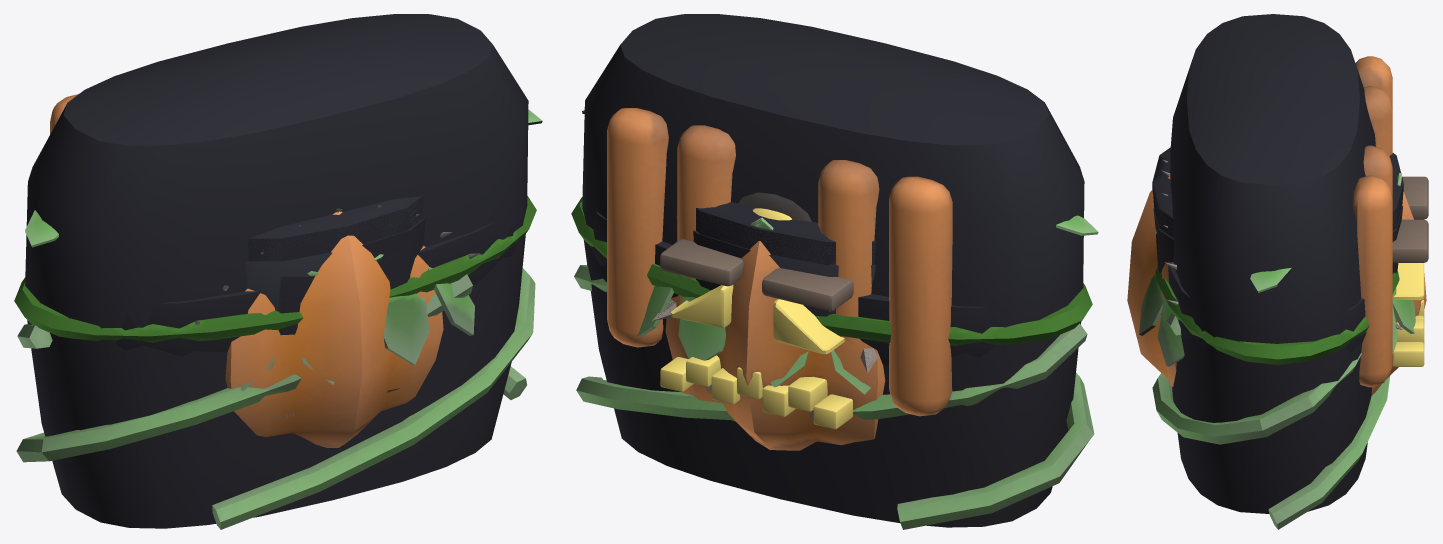
Rendered from Bramblebeast.fbx.
3 views of the same model, side by side, from view 1: azimuth 30°, elevation 25°; view 2: azimuth 150°, elevation 25°; view 3: azimuth 270°, elevation 25° (orthographic). The views are drawn at different scales.
Parts seen in each view (by area): view 1: UpperTorso.001, Head.001, LowerTorso.001, LeftUpperLeg.001, BrambleMane.001, RightUpperLeg.001, RightUpperArm.001, LeftUpperArm.001, BrambleCrown.001; view 2: UpperTorso.001, Head.001, LowerTorso.001, LeftUpperLeg.001, BrambleMane.001, RightUpperLeg.001, RightUpperArm.001, LeftUpperArm.001; view 3: UpperTorso.001, Head.001, LowerTorso.001, BrambleMane.001, LeftUpperLeg.001, RightUpperLeg.001, LeftUpperArm.001, BrambleCrown.001.
Part boxes in pixels (box(x1,y1,x2,y2)): UpperTorso.001: box(16, 14, 535, 529); Head.001: box(225, 211, 443, 447); LowerTorso.001: box(14, 196, 536, 356); LeftUpperLeg.001: box(248, 196, 422, 335); BrambleMane.001: box(240, 267, 474, 391); RightUpperLeg.001: box(248, 196, 422, 334); RightUpperArm.001: box(245, 252, 332, 311); LeftUpperArm.001: box(362, 218, 425, 279); BrambleCrown.001: box(25, 109, 542, 247); UpperTorso.001: box(574, 14, 1094, 529); Head.001: box(660, 239, 885, 450); LowerTorso.001: box(571, 197, 1092, 365); LeftUpperLeg.001: box(696, 202, 876, 316); BrambleMane.001: box(636, 286, 870, 394); RightUpperLeg.001: box(696, 208, 875, 316); RightUpperArm.001: box(769, 255, 875, 314); LeftUpperArm.001: box(676, 216, 750, 282); UpperTorso.001: box(1152, 14, 1392, 529); Head.001: box(1127, 176, 1428, 395); LowerTorso.001: box(1155, 261, 1399, 364); BrambleMane.001: box(1139, 273, 1415, 366); LeftUpperLeg.001: box(1152, 147, 1403, 273); RightUpperLeg.001: box(1152, 151, 1403, 261); LeftUpperArm.001: box(1153, 206, 1403, 273); BrambleCrown.001: box(1250, 267, 1291, 292).
Size of the model in its own units: 2.04 by 1.6 by 1.2.
1 material, 1 textured.
